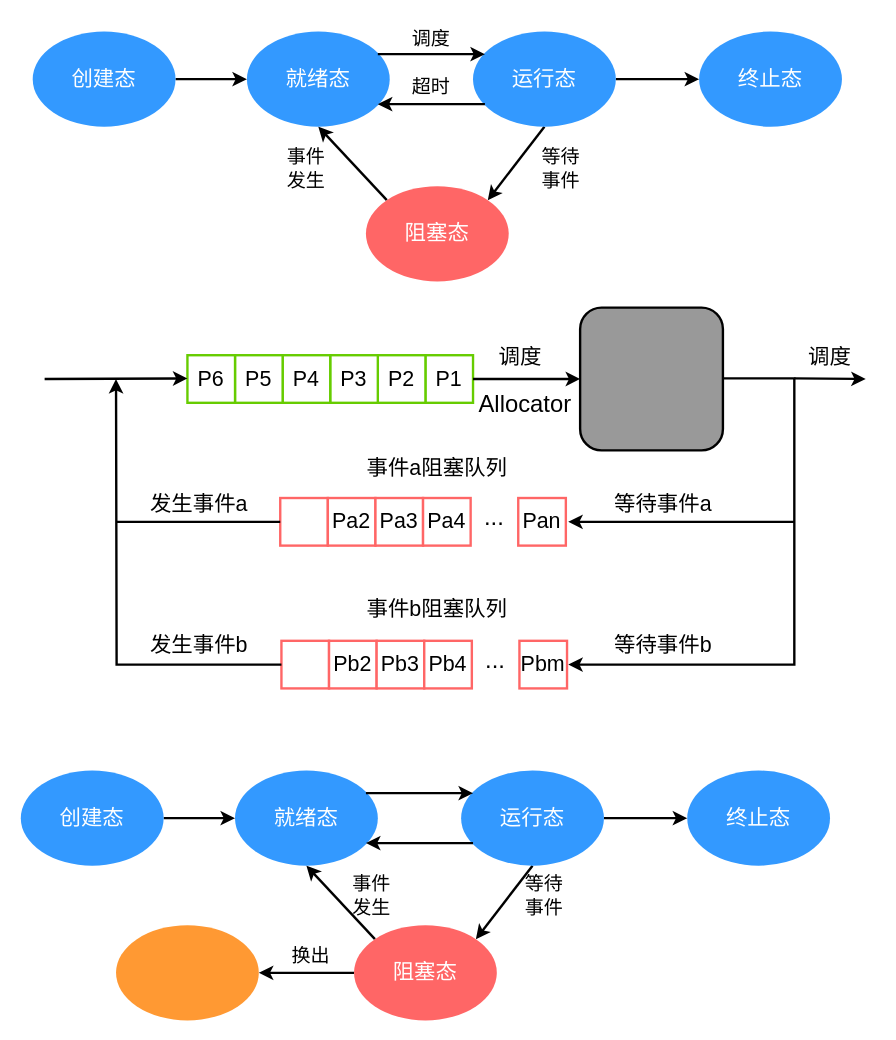
The diagram is 896 pixels wide and 1040 high, and some of its shapes have lost their labels. Each missing label, with the box of its shape:
CPU: (578, 306, 724, 451)
Pa1: (278, 496, 328, 546)
Pb1: (280, 639, 330, 689)
挂起态: (115, 925, 258, 1020)
